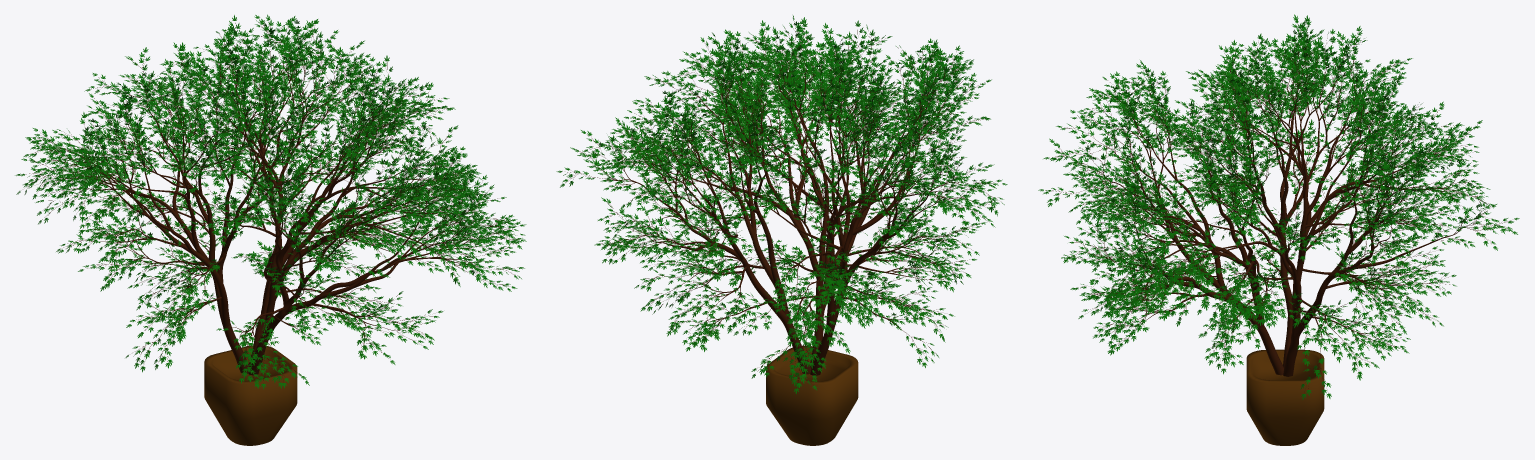
File: tree45-transformed.glb
3 views of the same model, side by side, from view 1: azimuth 30°, elevation 25°; view 2: azimuth 150°, elevation 25°; view 3: azimuth 270°, elevation 25° (orthographic).
Parts seen in each view (by area): view 1: leaves, tree, Cube; view 2: leaves, tree, Cube; view 3: leaves, tree, Cube.
Boxes of the visible parts, x1,y1,x2,y2 form: leaves: [15, 14, 526, 389]; tree: [25, 19, 518, 380]; Cube: [204, 345, 297, 445]; leaves: [556, 15, 1007, 393]; tree: [562, 21, 998, 387]; Cube: [766, 345, 858, 445]; leaves: [1038, 14, 1519, 399]; tree: [1045, 23, 1511, 389]; Cube: [1246, 349, 1324, 445].
Size of the model in its own units: 11.94 by 10.86 by 12.46.
